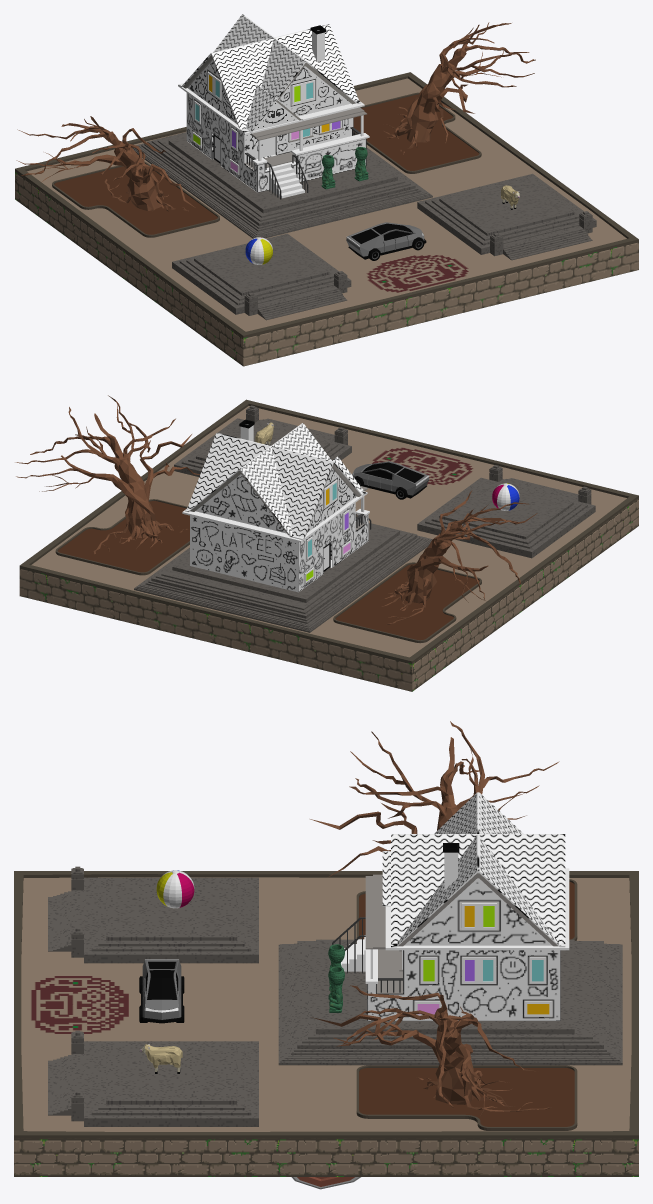
3 renders of one model, top to bottom at view 1: azimuth 30°, elevation 25°; view 2: azimuth 150°, elevation 25°; view 3: azimuth 270°, elevation 25°, orthographic. The views are drawn at different scales.
Parts seen in each view (by area): view 1: Cube.011, Cube.879, VEHICLES_CYBERTRUCK, OBJRANDOM_BEACHBALL; view 2: Cube.011, Cube.879, VEHICLES_CYBERTRUCK, OBJRANDOM_BEACHBALL; view 3: Cube.011, Cube.879, VEHICLES_CYBERTRUCK, OBJRANDOM_BEACHBALL, ANIMAL_OVEJA.
Part boxes in pixels (<box>): Cube.011: <box>15,22,638,366</box>; Cube.879: <box>178,14,369,199</box>; VEHICLES_CYBERTRUCK: <box>346,222,426,260</box>; OBJRANDOM_BEACHBALL: <box>245,237,272,264</box>; Cube.011: <box>15,395,638,691</box>; Cube.879: <box>182,419,371,592</box>; VEHICLES_CYBERTRUCK: <box>352,461,429,499</box>; OBJRANDOM_BEACHBALL: <box>492,483,519,510</box>; Cube.011: <box>14,721,638,1176</box>; Cube.879: <box>332,792,569,1020</box>; VEHICLES_CYBERTRUCK: <box>139,959,184,1023</box>; OBJRANDOM_BEACHBALL: <box>156,870,194,908</box>; ANIMAL_OVEJA: <box>140,1044,182,1073</box>.
Bounding box in the file's own units: 5099 × 2376 × 4000.
40 materials, 12 textured.
